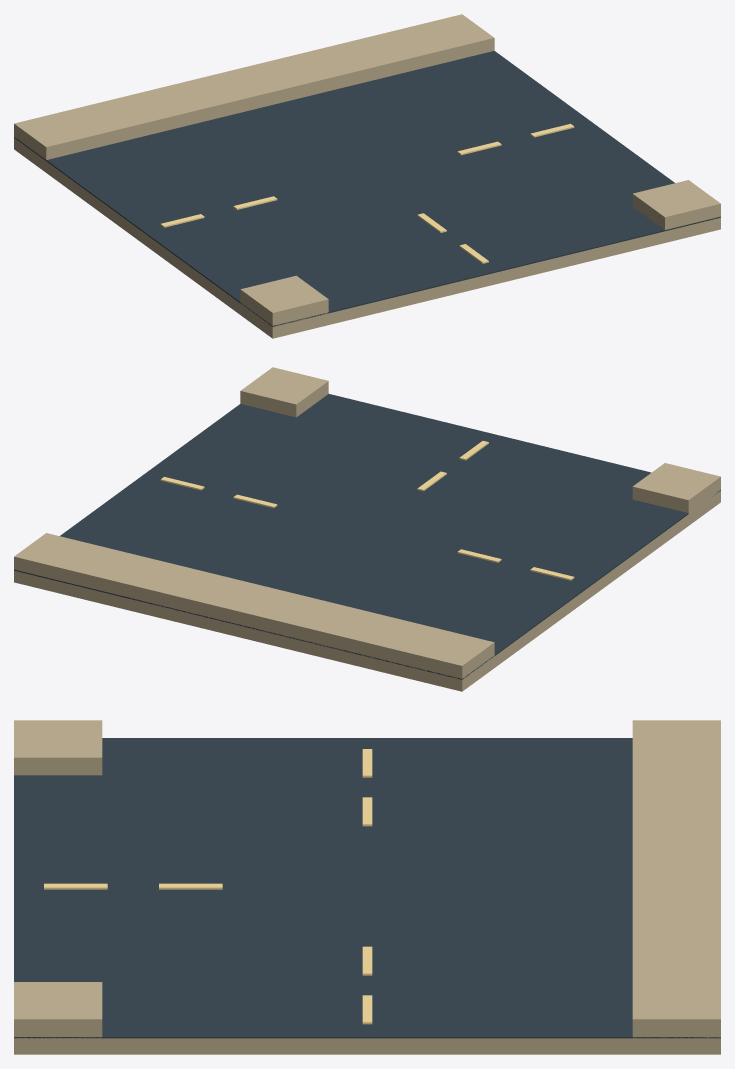
File: road_t.glb
3 views of the same model, one above another, from view 1: azimuth 30°, elevation 25°; view 2: azimuth 150°, elevation 25°; view 3: azimuth 270°, elevation 25° (orthographic). The views are drawn at different scales.
Visible parts, largest first — view 1: asphalt, closed_edge, tile, corner_pavement, corner_pavement.001, corner_pavement.002, corner_pavement.003; view 2: asphalt, closed_edge, tile, corner_pavement.001, corner_pavement, corner_pavement.002, corner_pavement.003; view 3: asphalt, closed_edge, tile, corner_pavement, corner_pavement.002, corner_pavement.003, corner_pavement.001.
Boxes of the visible parts, box(x1,y1,x2,y2) form: asphalt: box(14, 51, 720, 326); closed_edge: box(70, 28, 438, 146); tile: box(14, 138, 720, 338); corner_pavement: box(240, 275, 328, 326); corner_pavement.001: box(14, 110, 102, 159); corner_pavement.002: box(632, 180, 720, 229); corner_pavement.003: box(406, 14, 494, 64); asphalt: box(14, 394, 720, 679); closed_edge: box(70, 546, 437, 665); tile: box(14, 491, 720, 691); corner_pavement.001: box(406, 628, 494, 679); corner_pavement: box(632, 463, 720, 513); corner_pavement.002: box(240, 367, 328, 417); corner_pavement.003: box(14, 533, 101, 583); asphalt: box(14, 738, 720, 1038); closed_edge: box(632, 757, 720, 981); tile: box(14, 1038, 720, 1054); corner_pavement: box(14, 720, 102, 775); corner_pavement.002: box(14, 982, 102, 1038); corner_pavement.003: box(632, 982, 720, 1037); corner_pavement.001: box(632, 720, 720, 757).
Size of the model in its own units: 4 by 0.22 by 4.
